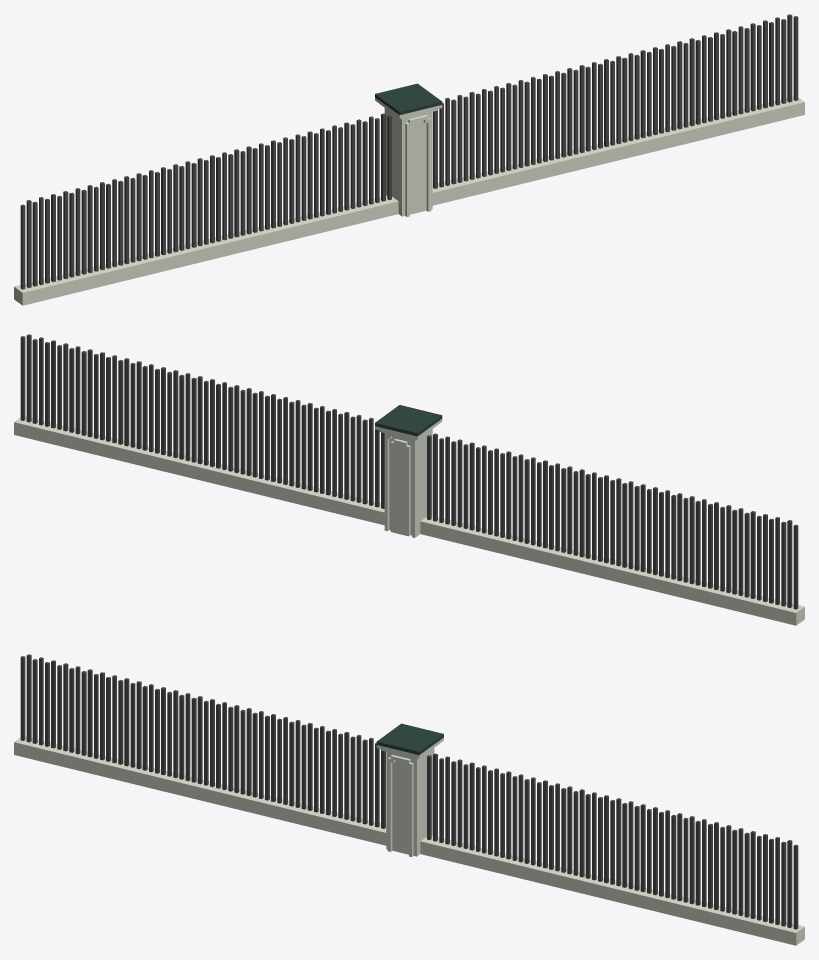
The model's file is gate_back.obj.
3 renders of one model, top to bottom at view 1: azimuth 30°, elevation 25°; view 2: azimuth 150°, elevation 25°; view 3: azimuth 330°, elevation 25°, orthographic.
Bounding box in the file's own units: 25.6 × 3.4 × 1.4.
Materials: 1 (1 with a texture image).
